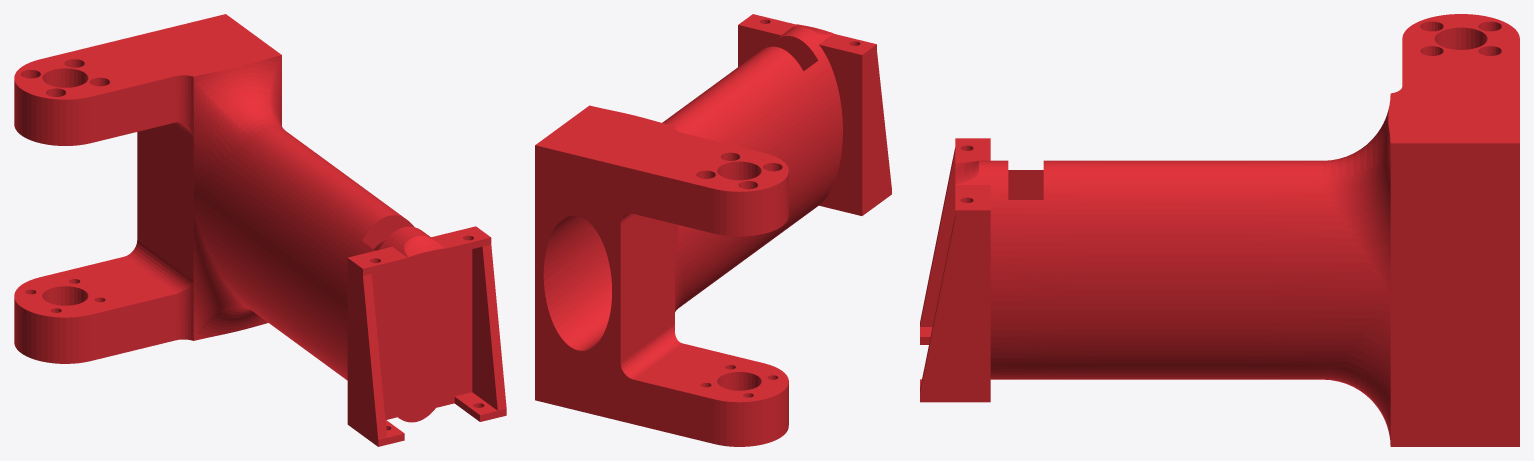
File: mainarm.dae
The picture shows the model from 3 angles, left to right: view 1: azimuth 30°, elevation 25°; view 2: azimuth 150°, elevation 25°; view 3: azimuth 270°, elevation 25°; orthographic projection. The views are drawn at different scales.
Parts seen in each view (by area): view 1: ThickMainArm; view 2: ThickMainArm; view 3: ThickMainArm.
Boxes of the visible parts, <box> form: ThickMainArm: <box>14,14,506,446</box>; ThickMainArm: <box>535,14,891,446</box>; ThickMainArm: <box>920,14,1519,446</box>.
Bounding box in the file's own units: 56.48 × 102 × 57.
